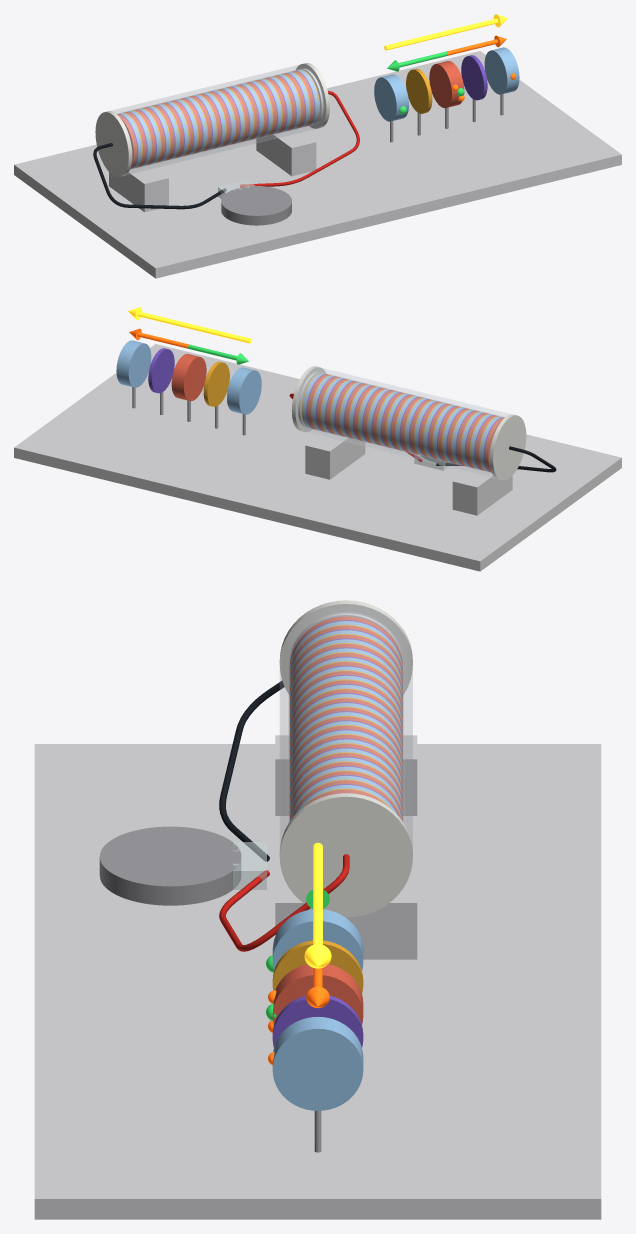
The model's file is artificial-electric-organ.glb.
3 renders of one model, top to bottom at view 1: azimuth 30°, elevation 25°; view 2: azimuth 150°, elevation 25°; view 3: azimuth 270°, elevation 25°, orthographic. The views are drawn at different scales.
Parts seen in each view (by area): view 1: Base plate, Silicone sleeve, High-salt gel layers, Low-salt gel layers, Cradle, Low-salt gel layer, End caps, Titanium can, Cation-selective membranes, Anion-selective membranes, High-salt gel layer, Anion-selective membrane (+5 smaller); view 2: Base plate, Silicone sleeve, High-salt gel layers, Low-salt gel layers, Cradle, Low-salt gel layer, End caps, Cation-selective membranes, Anion-selective membranes, High-salt gel layer, Anion-selective membrane, Cation-selective membrane (+3 smaller); view 3: Base plate, Silicone sleeve, End caps, Low-salt gel layer, Titanium can, High-salt gel layers, Low-salt gel layers, Cradle, Cation-selective membranes, Anion-selective membranes, High-salt gel layer, Cation-selective membrane (+5 smaller).
Part boxes in pixels (x1,y1,x2,y2): Base plate: [14, 51, 621, 278]; Silicone sleeve: [111, 64, 325, 174]; High-salt gel layers: [117, 71, 314, 168]; Low-salt gel layers: [119, 70, 319, 168]; Cradle: [109, 128, 316, 212]; Low-salt gel layer: [374, 47, 519, 121]; End caps: [95, 63, 329, 176]; Titanium can: [221, 186, 291, 225]; Cation-selective membranes: [118, 70, 315, 168]; Anion-selective membranes: [123, 69, 319, 166]; High-salt gel layer: [429, 61, 464, 107]; Anion-selective membrane: [406, 68, 432, 113]; Base plate: [14, 344, 621, 571]; Silicone sleeve: [296, 367, 511, 478]; High-salt gel layers: [307, 374, 504, 471]; Low-salt gel layers: [302, 373, 502, 471]; Cradle: [305, 432, 512, 515]; Low-salt gel layer: [116, 340, 261, 414]; End caps: [291, 366, 526, 480]; Cation-selective membranes: [306, 374, 503, 471]; Anion-selective membranes: [301, 373, 497, 470]; High-salt gel layer: [171, 354, 206, 400]; Anion-selective membrane: [203, 361, 229, 406]; Cation-selective membrane: [148, 348, 174, 393]; Base plate: [34, 744, 601, 1219]; Silicone sleeve: [280, 604, 412, 846]; End caps: [279, 600, 412, 917]; Low-salt gel layer: [272, 909, 363, 1110]; Titanium can: [99, 826, 241, 905]; High-salt gel layers: [289, 616, 402, 820]; Low-salt gel layers: [289, 621, 402, 820]; Cradle: [275, 735, 417, 959]; Cation-selective membranes: [289, 620, 402, 818]; Anion-selective membranes: [289, 624, 402, 819]; High-salt gel layer: [272, 964, 363, 1024]; Cation-selective membrane: [272, 995, 363, 1047].
Size of the model in its own units: 0.38 by 0.0868 by 0.2.
